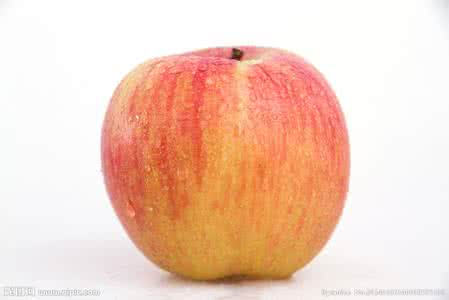apple: (98, 40, 358, 287)
